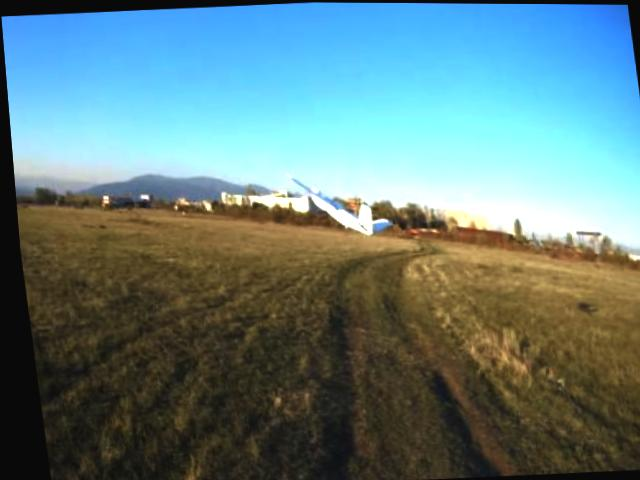uav: (278, 161, 399, 251)
